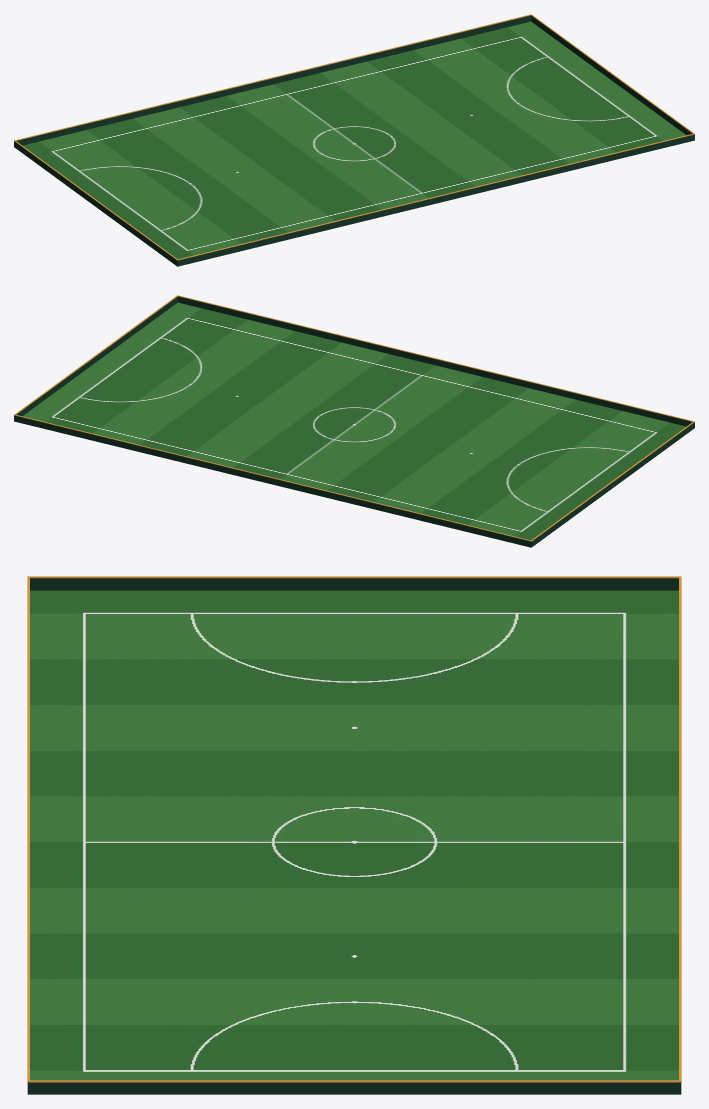
File: pitch.glb
3 views of the same model, one above another, from view 1: azimuth 30°, elevation 25°; view 2: azimuth 150°, elevation 25°; view 3: azimuth 270°, elevation 25° (orthographic). The views are drawn at different scales.
Parts seen in each view (by area): view 1: pitch, boards; view 2: pitch, boards; view 3: pitch, boards.
Part boxes in pixels (<box>): pitch: <box>23,21,685,259</box>; boards: <box>14,14,694,266</box>; pitch: <box>23,302,685,540</box>; boards: <box>14,295,694,547</box>; pitch: <box>30,590,678,1080</box>; boards: <box>27,576,681,1094</box>.
Size of the model in its own units: 44.18 by 0.5393 by 24.18.
Materials: 2 (1 with a texture image).
